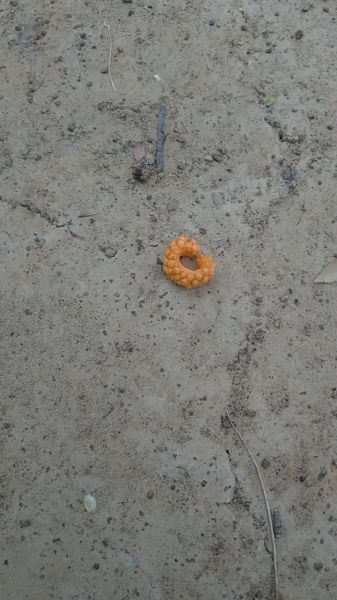eggs: (162, 226, 221, 290)
